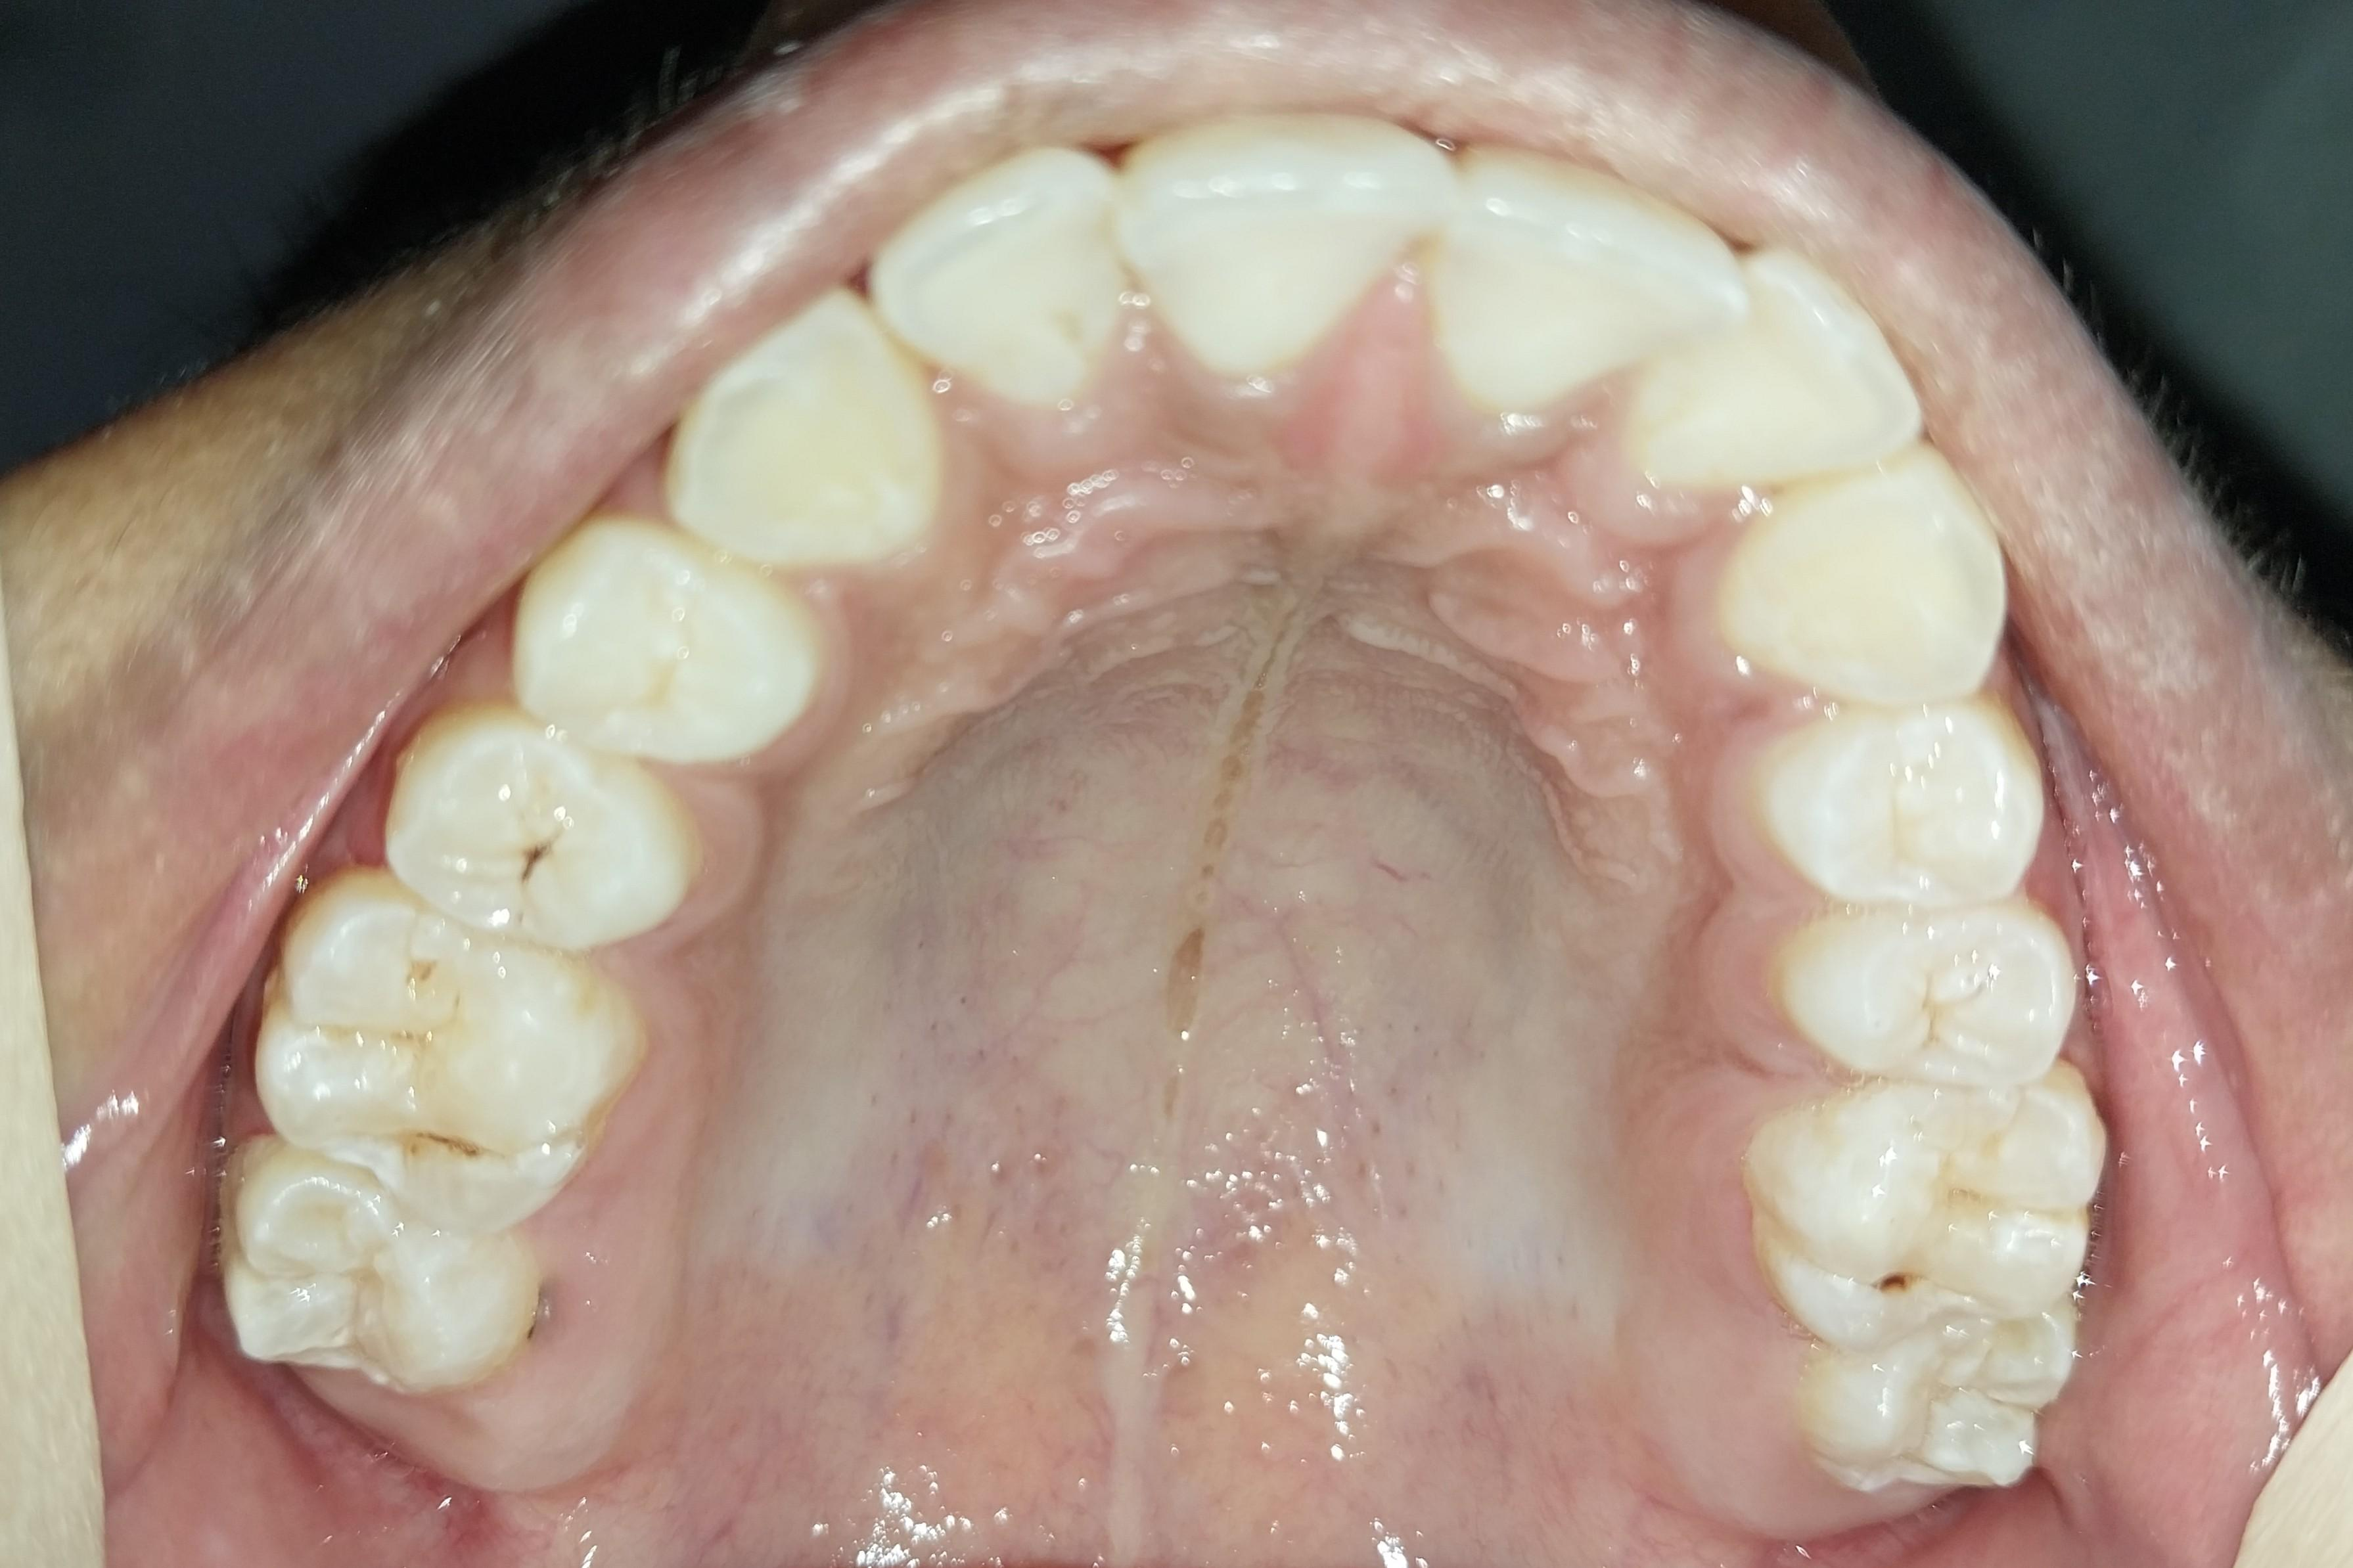D: (252, 876, 615, 1223), (1758, 1086, 2103, 1347), (394, 722, 697, 947)
